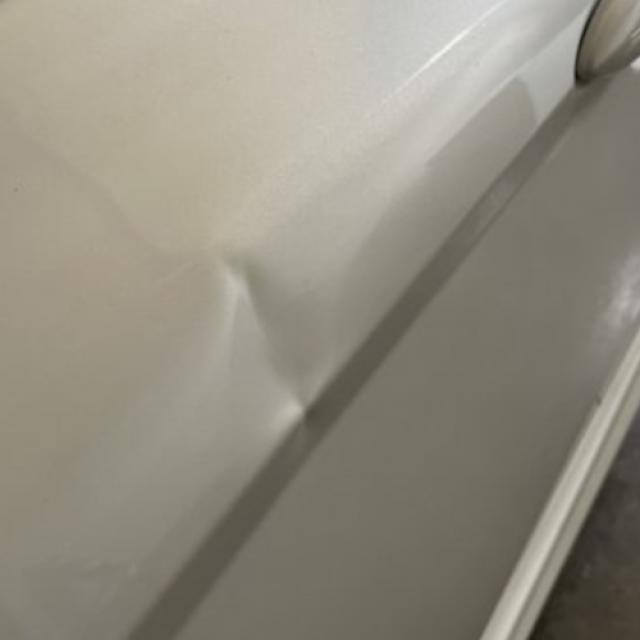dents: (205, 231, 366, 466)
